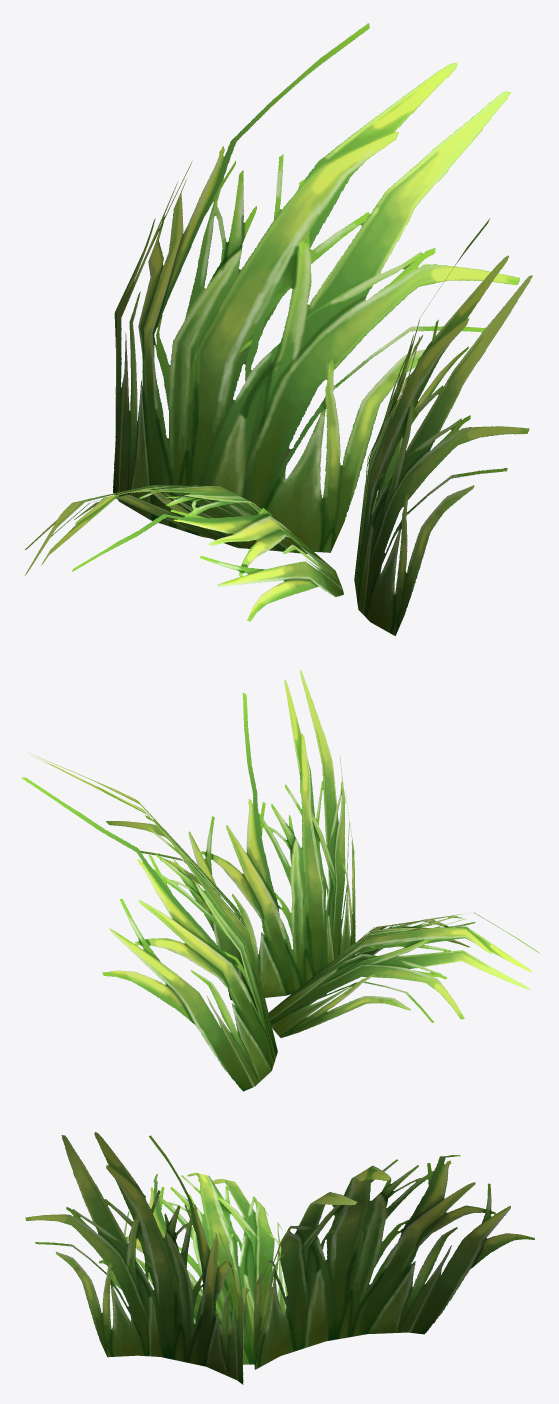
Rendered from Grass2.FBX.
3 views of the same model, one above another, from view 1: azimuth 30°, elevation 25°; view 2: azimuth 150°, elevation 25°; view 3: azimuth 270°, elevation 25° (orthographic). The views are drawn at different scales.
Parts seen in each view (by area): view 1: Grass2; view 2: Grass2; view 3: Grass2.
Part boxes in pixels (left/top/right/bottom): Grass2: left=24, top=23, right=532, bottom=636; Grass2: left=22, top=669, right=539, bottom=1091; Grass2: left=25, top=1132, right=534, bottom=1384.
Bounding box in the file's own units: 91.2 × 55.71 × 94.9.
